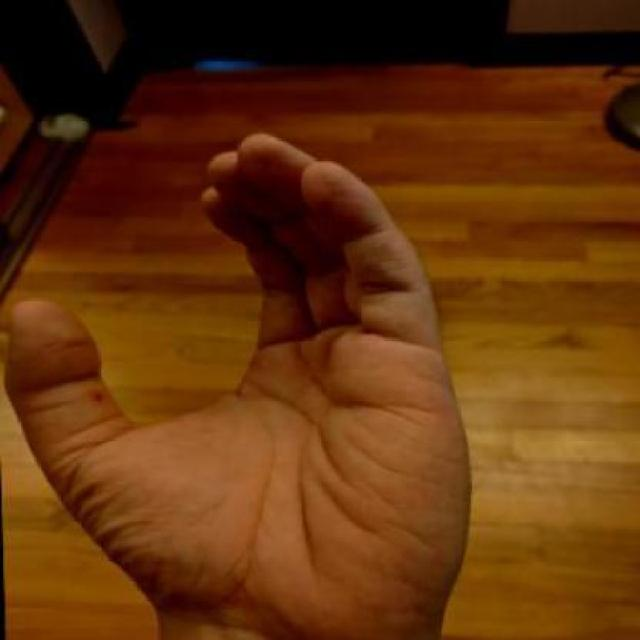C: (0, 123, 488, 639)
